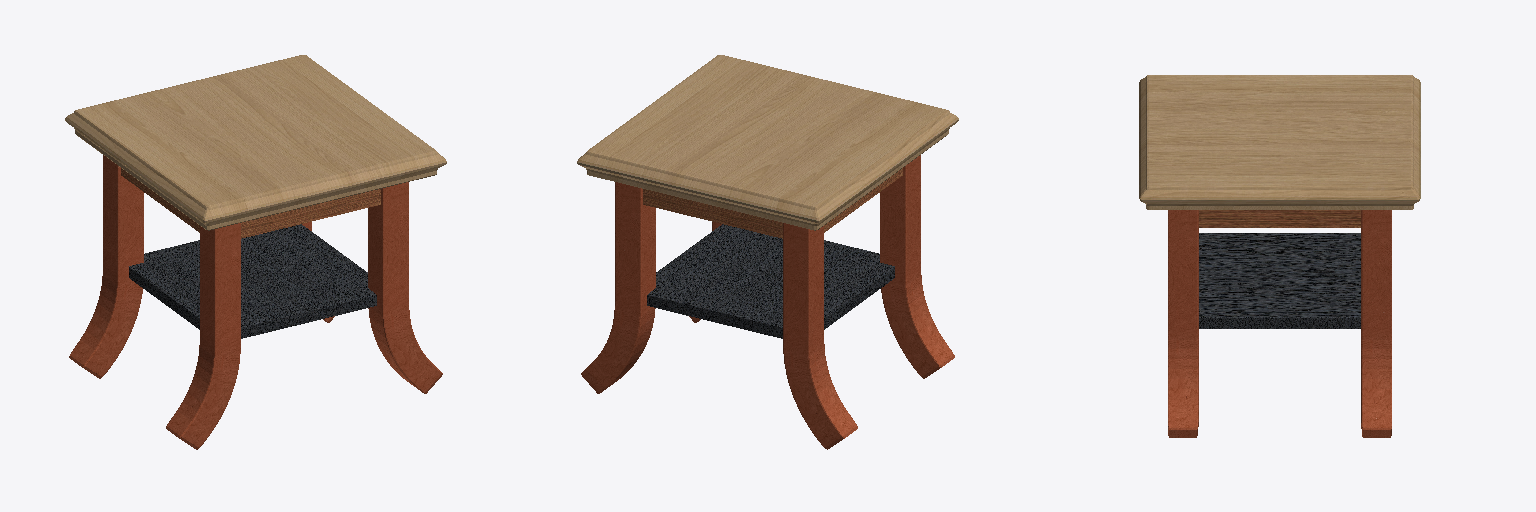
3 views of the same model, side by side, from view 1: azimuth 30°, elevation 25°; view 2: azimuth 150°, elevation 25°; view 3: azimuth 270°, elevation 25° (orthographic).
Visible parts, largest first — view 1: Box01, Box10, Box03, Box11, Box13, Box09, Box06; view 2: Box01, Box10, Box11, Box03, Box12, Box08, Box06; view 3: Box01, Box10, Box12, Box13, Box07.
Part boxes in pixels (x1,y1,x2,y2): Box01: (65, 55, 446, 230); Box10: (129, 224, 376, 338); Box03: (166, 223, 240, 449); Box11: (69, 155, 143, 378); Box13: (368, 182, 442, 393); Box09: (241, 189, 380, 238); Box06: (121, 168, 199, 232); Box01: (577, 55, 958, 230); Box10: (647, 224, 894, 338); Box11: (783, 223, 857, 449); Box03: (880, 155, 954, 378); Box12: (581, 182, 655, 393); Box08: (643, 189, 782, 238); Box06: (824, 168, 902, 232); Box01: (1139, 75, 1420, 209); Box10: (1199, 233, 1360, 328); Box12: (1361, 210, 1391, 437); Box13: (1168, 210, 1198, 437); Box07: (1199, 210, 1360, 227).
Size of the model in its own units: 22.8 by 20.75 by 21.06.
4 materials, 4 textured.